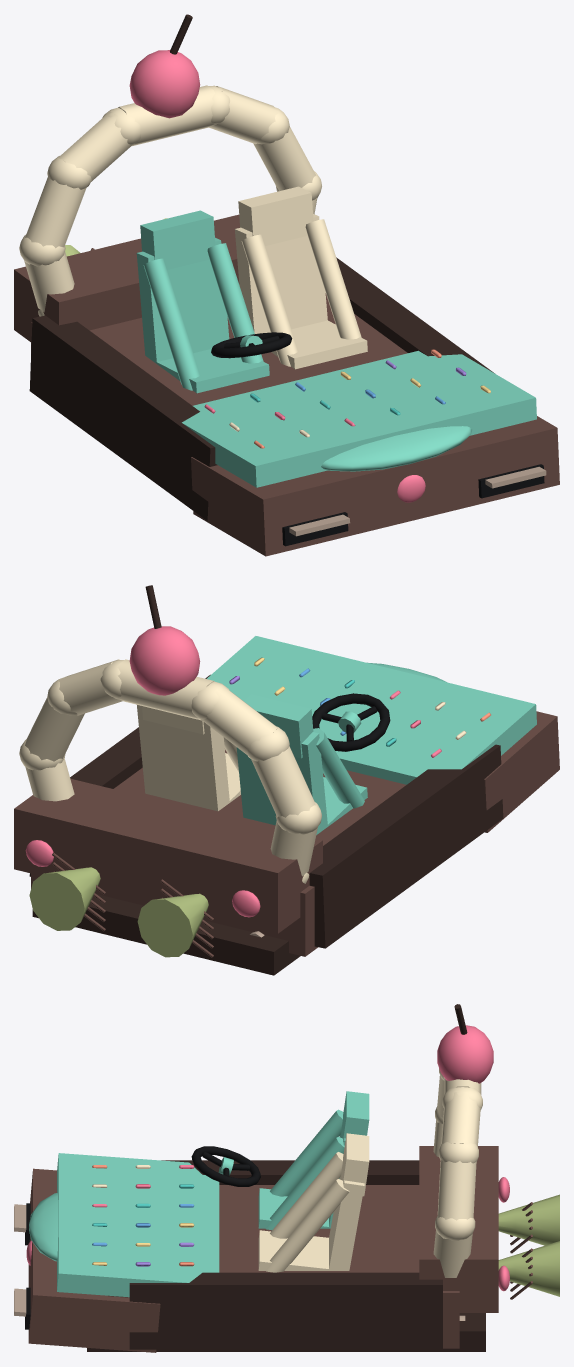
File: A019-08-mint-candy--dessert-counterpart-runtime-v1.glb
3 renders of one model, top to bottom at view 1: azimuth 30°, elevation 25°; view 2: azimuth 150°, elevation 25°; view 3: azimuth 270°, elevation 25°, orthographic. The views are drawn at different scales.
Parts seen in each view (by area): view 1: LP14_Body_Part_01; view 2: LP14_Body_Part_01; view 3: LP14_Body_Part_01.
Part boxes in pixels (x1,y1,x2,y2): LP14_Body_Part_01: (14,14,559,556); LP14_Body_Part_01: (14,585,559,975); LP14_Body_Part_01: (14,1004,559,1352).
Size of the model in its own units: 0.5511 by 0.6133 by 1.
